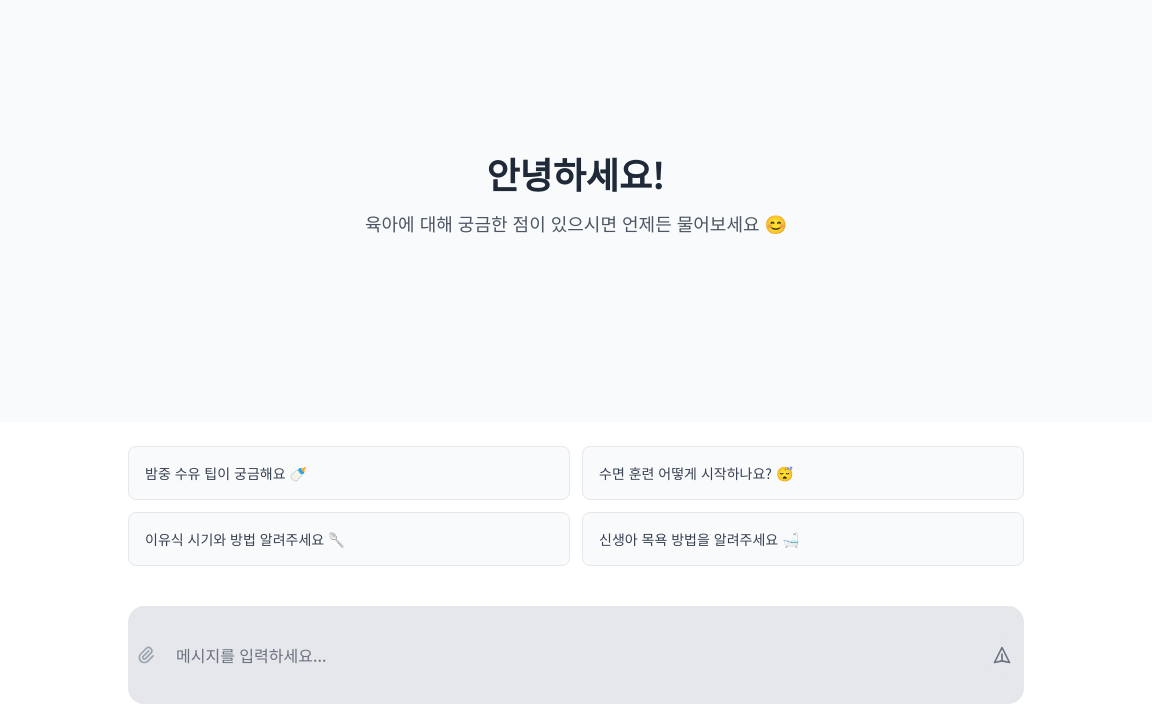
Test: ChatLayout 컴포넌트 › 메시지 전송 후 응답이 표시되어야 한다
This screenshot has width=1152, height=720.
Type "질문" into the text box with placeholder "메시지를 입력하세요...". click: (574, 655)
box: [164,639,984,671]
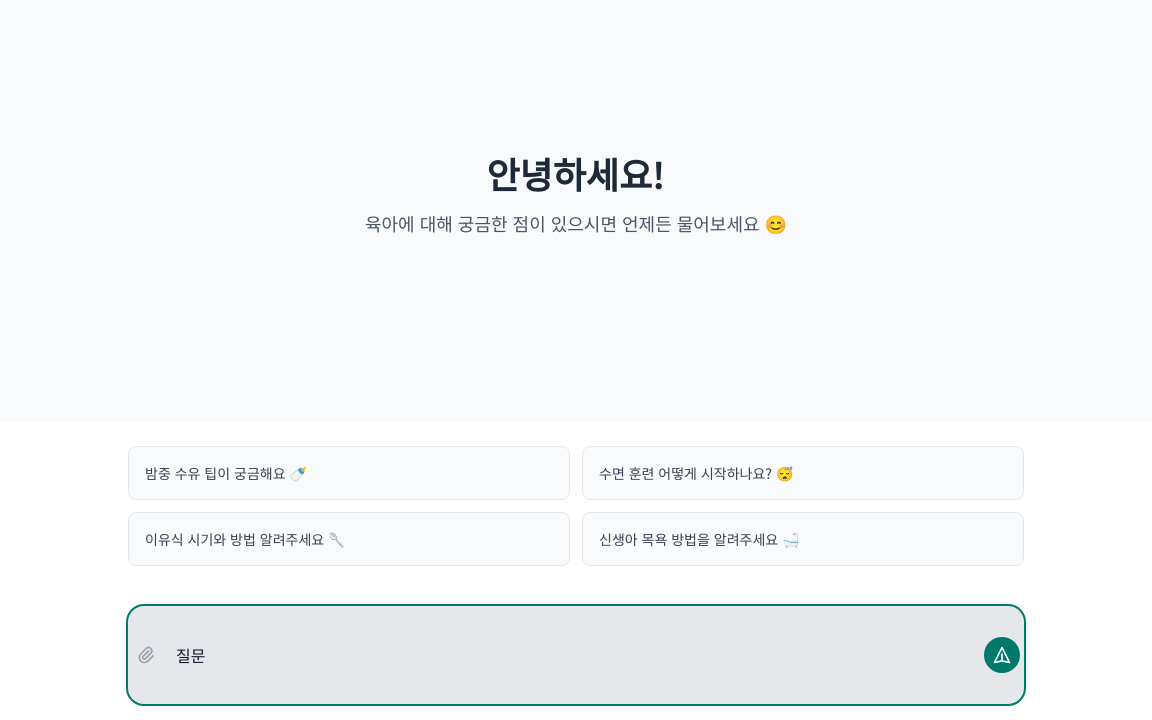
Click the button named "메시지 전송". click: (1002, 655)
box: [984,637,1020,673]
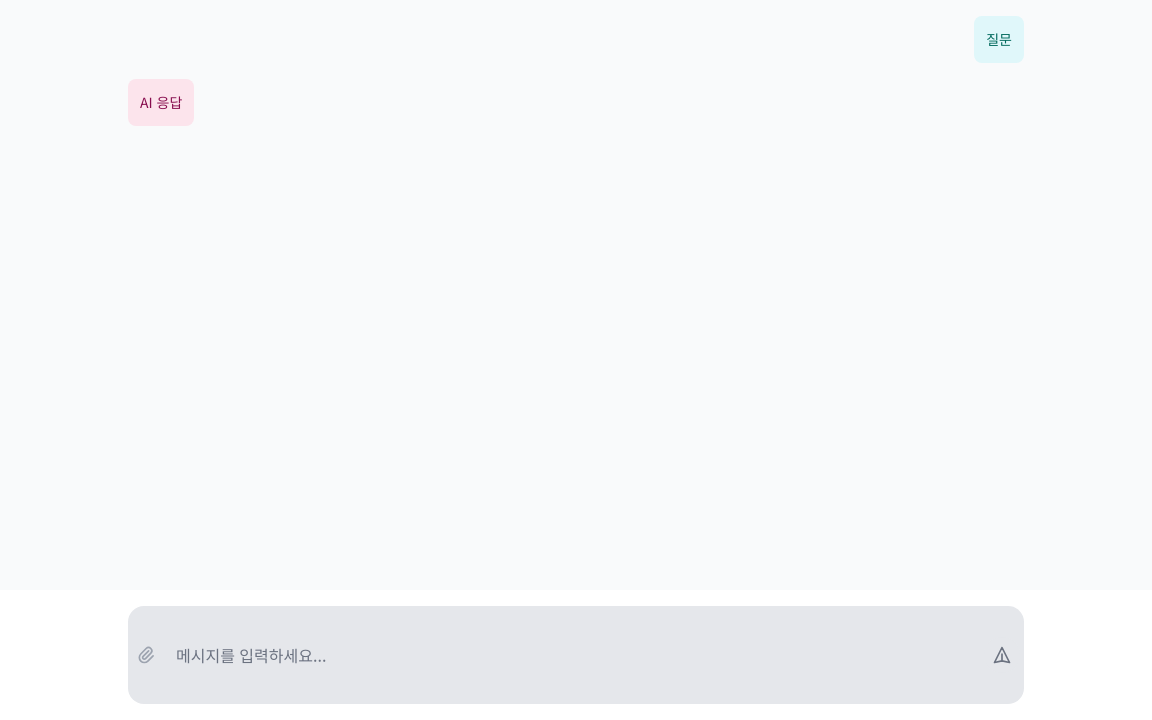
Check: the text "질문" is shown, box [974,16,1024,63]
Check: the text "AI 응답" is shown, box [128,79,194,126]
